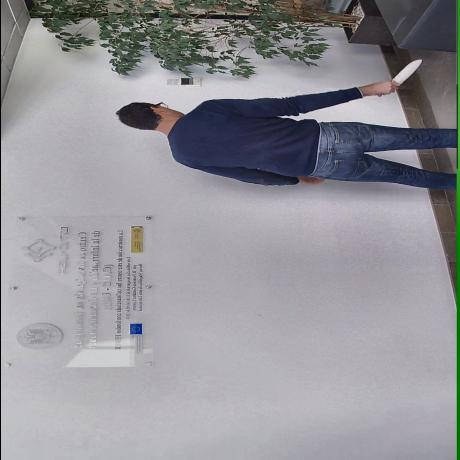1: (112, 87, 453, 194)
weapon: (376, 59, 423, 98)
